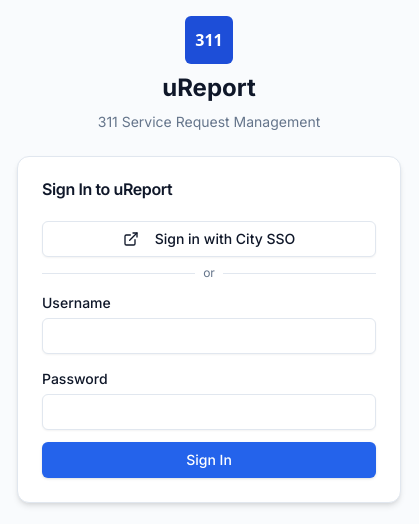
it: LoginPage › shows loading spinner and disables button during submit
Type "jdoe" into the field labelled "Username".
click(209, 336); type("jdoe")  # box x1=42 y1=318 x2=376 y2=354
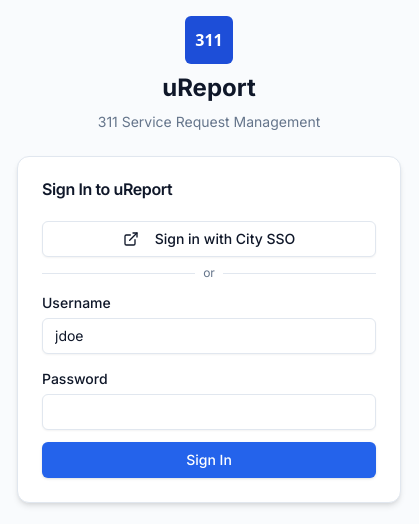
Type "secret" into the password field labelled "Password".
click(209, 412); type("secret")  # box x1=42 y1=394 x2=376 y2=430
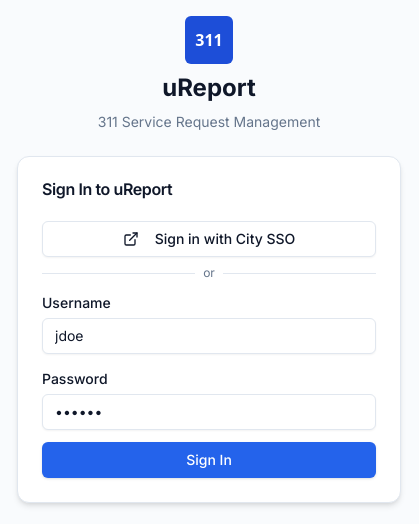
Click the button "Sign In".
click(209, 460)  # box x1=42 y1=442 x2=376 y2=478
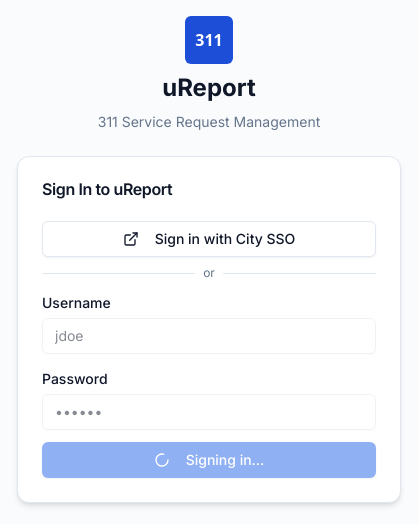
Expected: the button "Signing in..." is disabled, x1=42 y1=442 x2=376 y2=478
